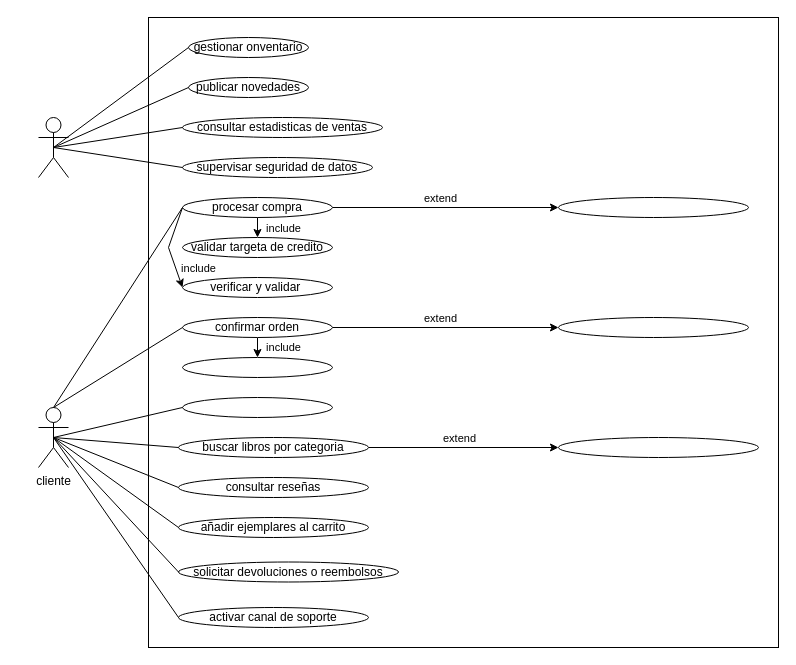
Some shapes in this 796 by 665 pixel diagram are drawn without their labels. The shapes that lost their labels are listed below. From the top down, each one's centre as x and y in pixels, then its label:
At (x=53, y=147): "administrador".
At (x=653, y=207): "aplicar puntos de fidelidad".
At (x=653, y=327): "descargar factura electronica".
At (x=257, y=367): "entrega a domicilio".
At (x=257, y=407): "registrarse".
At (x=658, y=447): "recibir sugerencias personalizadas".
